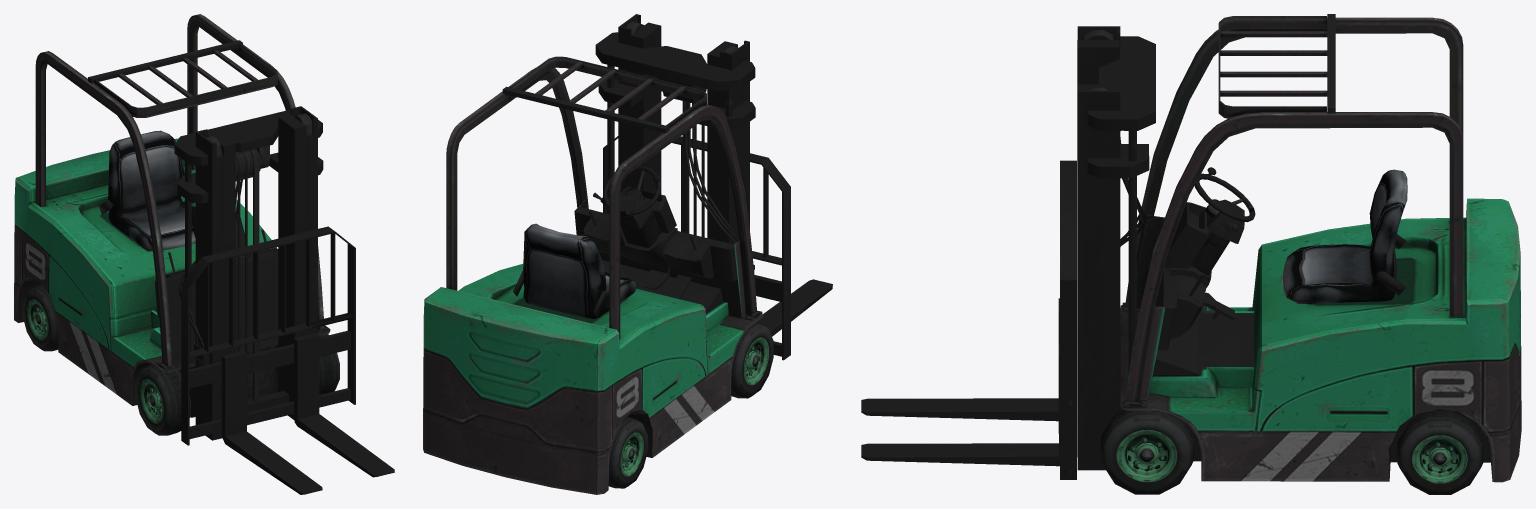
Rendered from Forklift03.FBX.
The picture shows the model from 3 angles, left to right: view 1: azimuth 30°, elevation 25°; view 2: azimuth 150°, elevation 25°; view 3: azimuth 270°, elevation 25°; orthographic projection. The views are drawn at different scales.
Parts seen in each view (by area): view 1: Forklift03, Forklift_wheel1, Forklift_wheels, Forklift_wheel2; view 2: Forklift03, Forklift_wheel1, Forklift_wheels; view 3: Forklift03, Forklift_wheel2, Forklift_wheels.
Boxes of the visible parts, bbox=[...] form: Forklift03: bbox=[14, 14, 394, 494]; Forklift_wheel1: bbox=[135, 364, 190, 435]; Forklift_wheels: bbox=[22, 284, 58, 351]; Forklift_wheel2: bbox=[319, 334, 339, 394]; Forklift03: bbox=[423, 14, 832, 494]; Forklift_wheel1: bbox=[731, 322, 773, 398]; Forklift_wheels: bbox=[608, 416, 647, 488]; Forklift03: bbox=[861, 14, 1521, 482]; Forklift_wheel2: bbox=[1100, 409, 1193, 494]; Forklift_wheels: bbox=[1397, 411, 1483, 494].
Bounding box in the file's own units: 1.19 × 2 × 3.1.
